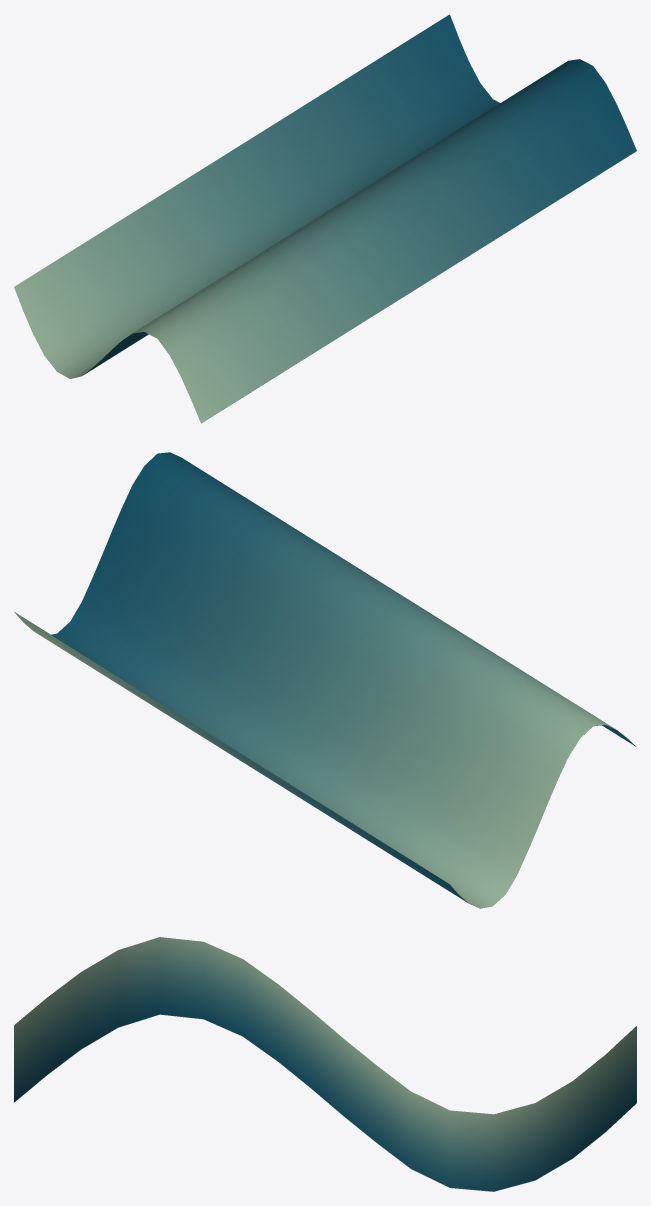
Rendered from y=senx+k 3D negativo recorrido.fbx.
3 renders of one model, top to bottom at view 1: azimuth 30°, elevation 25°; view 2: azimuth 150°, elevation 25°; view 3: azimuth 270°, elevation 25°, orthographic. The views are drawn at different scales.
Visible parts, largest first — view 1: y_senx_k_k_mayor_0_recorrido:Mesh; view 2: y_senx_k_k_mayor_0_recorrido:Mesh; view 3: y_senx_k_k_mayor_0_recorrido:Mesh.
Part boxes in pixels (<box>): y_senx_k_k_mayor_0_recorrido:Mesh: <box>14,14,636,423</box>; y_senx_k_k_mayor_0_recorrido:Mesh: <box>14,452,636,908</box>; y_senx_k_k_mayor_0_recorrido:Mesh: <box>14,937,636,1191</box>.
Bounding box in the file's own units: 27.56 × 16.49 × 20.5.
